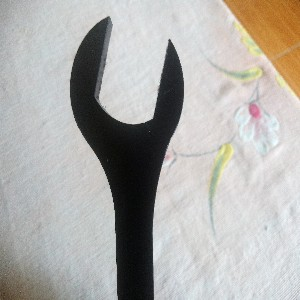spanner: (69, 15, 186, 300)
